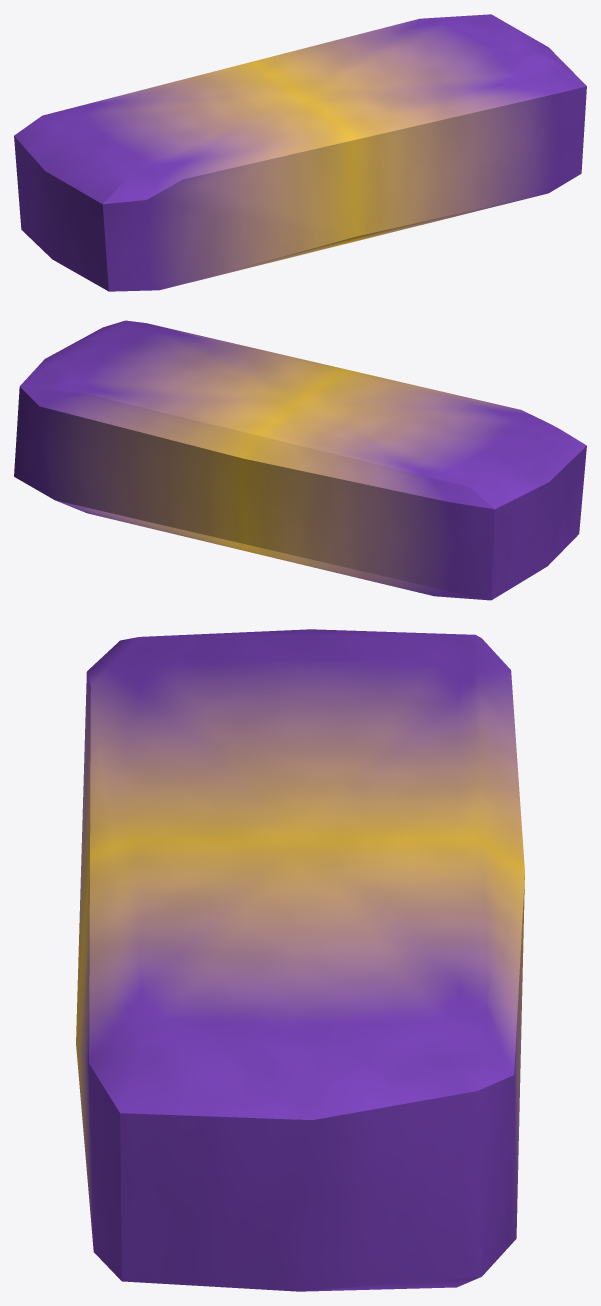
Rendered from Item_ProteinBar.fbx.
3 views of the same model, one above another, from view 1: azimuth 30°, elevation 25°; view 2: azimuth 150°, elevation 25°; view 3: azimuth 270°, elevation 25° (orthographic). The views are drawn at different scales.
Visible parts, largest first — view 1: Item_ProteinBar; view 2: Item_ProteinBar; view 3: Item_ProteinBar.
Part boxes in pixels (left/top/right/bottom): Item_ProteinBar: left=14, top=14, right=586, bottom=291; Item_ProteinBar: left=14, top=320, right=586, bottom=600; Item_ProteinBar: left=76, top=629, right=524, bottom=1291.
Bounding box in the file's own units: 0.2584 × 0.0586 × 0.0997.
Materials: 1 (1 with a texture image).
